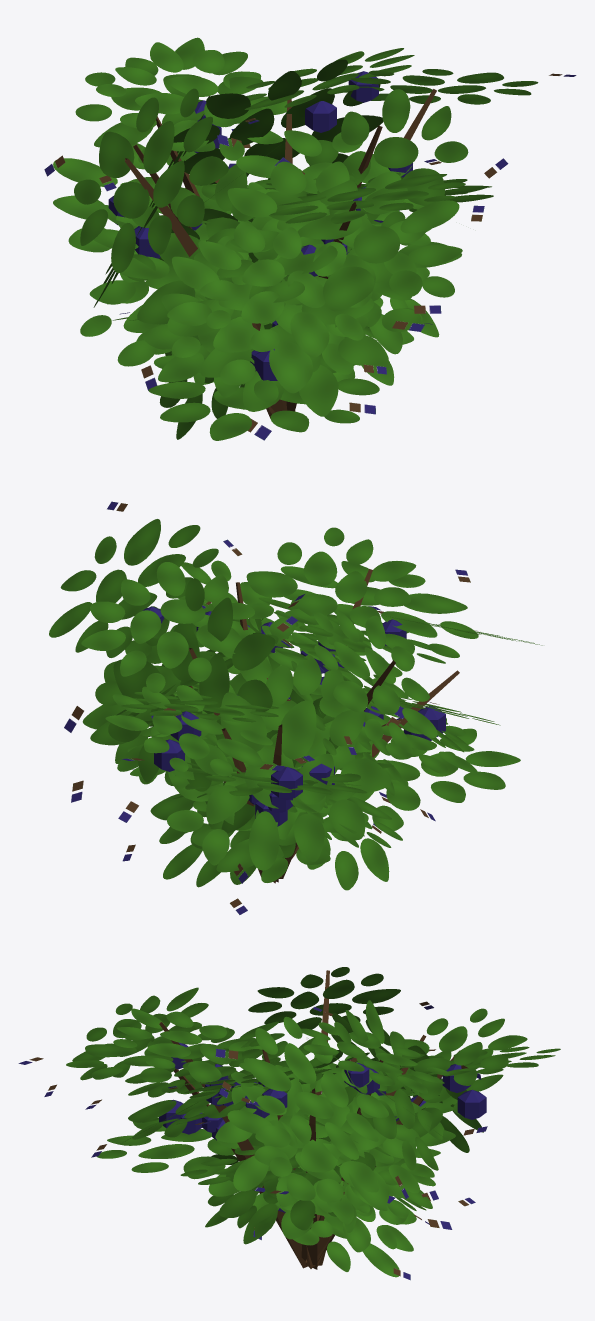
File: bush_berry_blue.glb
3 renders of one model, top to bottom at view 1: azimuth 30°, elevation 25°; view 2: azimuth 150°, elevation 25°; view 3: azimuth 270°, elevation 25°, orthographic. The views are drawn at different scales.
Visible parts, largest first — view 1: bush_berry_blue_branchy; view 2: bush_berry_blue_branchy; view 3: bush_berry_blue_branchy.
Part boxes in pixels (left/top/right/bottom): bush_berry_blue_branchy: left=44, top=37, right=576, bottom=440; bush_berry_blue_branchy: left=49, top=501, right=542, bottom=914; bush_berry_blue_branchy: left=18, top=967, right=560, bottom=1280.
Size of the model in its own units: 1.5 by 1.15 by 1.85.
Materials: 1 (1 with a texture image).
